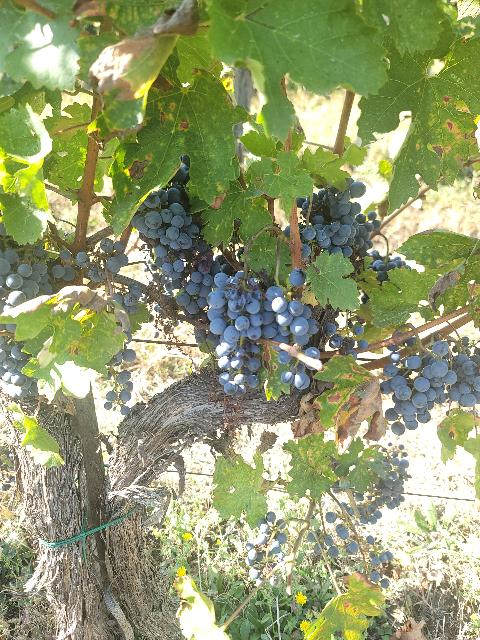grapes: (131, 154, 221, 312), (208, 270, 262, 398), (380, 340, 449, 435), (300, 178, 380, 258), (262, 286, 320, 359), (361, 445, 410, 522), (0, 248, 52, 314), (245, 511, 288, 580), (0, 324, 38, 400), (448, 352, 480, 408)
